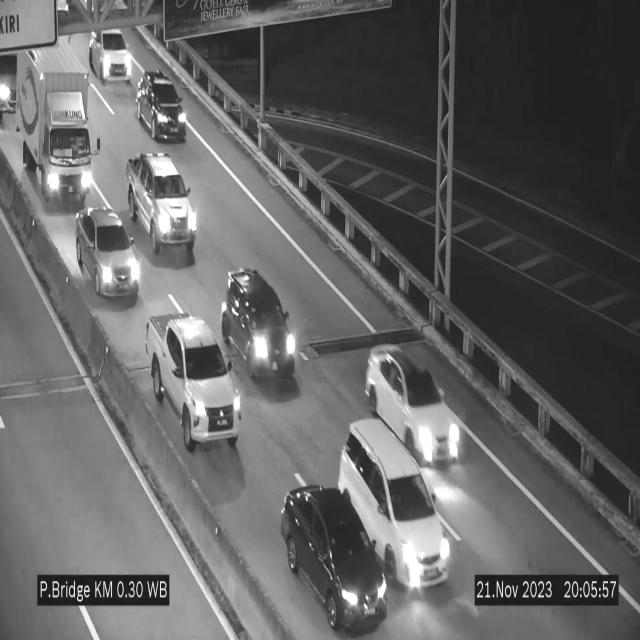Car: (338, 419, 450, 589), (280, 486, 387, 633), (146, 316, 242, 450), (366, 347, 460, 465), (222, 266, 302, 389), (126, 151, 196, 258), (76, 206, 140, 300), (136, 70, 187, 142), (90, 20, 138, 90), (0, 31, 29, 134)
Truck: (9, 28, 89, 220)
